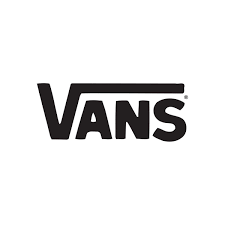vans: (34, 82, 187, 142)
